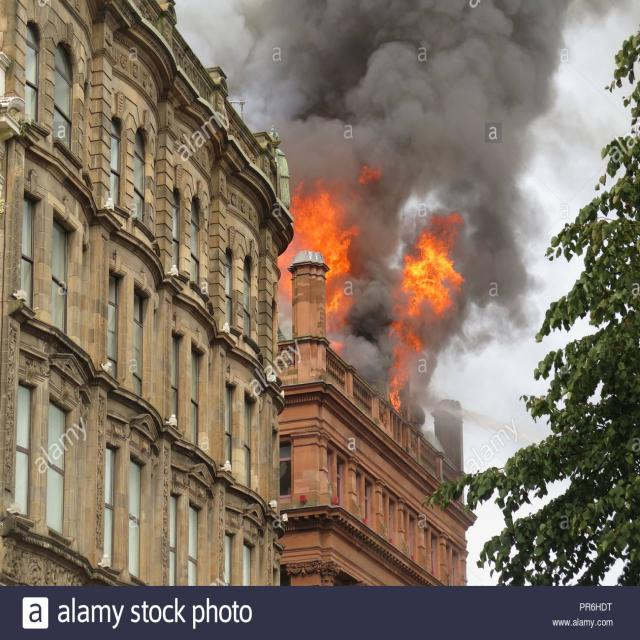smoke: (289, 4, 571, 214)
